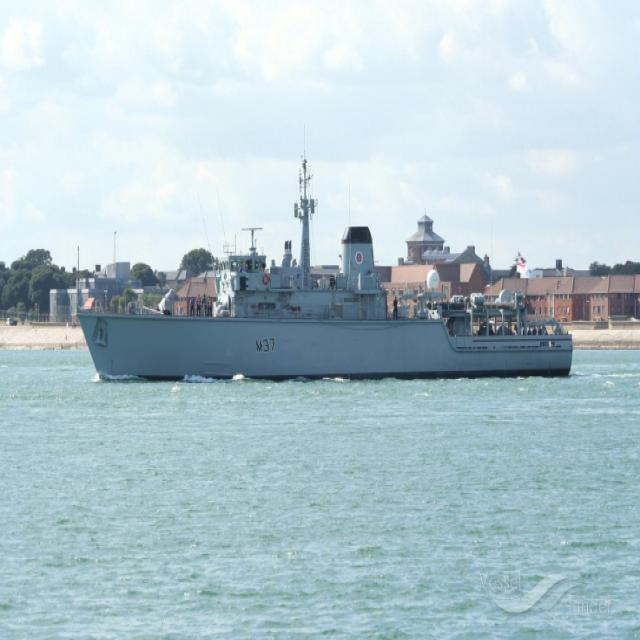OCR: (247, 328, 283, 360)
